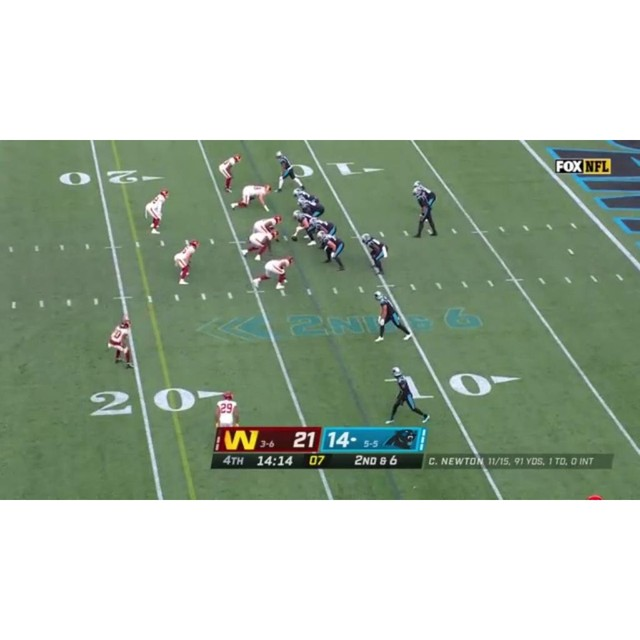american-football-player: (385, 365, 430, 424), (373, 291, 412, 343), (251, 255, 295, 291), (411, 186, 438, 238), (108, 316, 134, 369), (274, 150, 304, 192), (240, 229, 279, 261), (316, 231, 346, 271), (173, 239, 199, 285), (231, 184, 272, 212), (361, 233, 388, 275), (145, 189, 168, 234), (215, 391, 240, 427), (219, 154, 241, 194), (290, 209, 315, 244), (251, 215, 283, 242), (293, 191, 324, 215), (310, 217, 336, 239)
